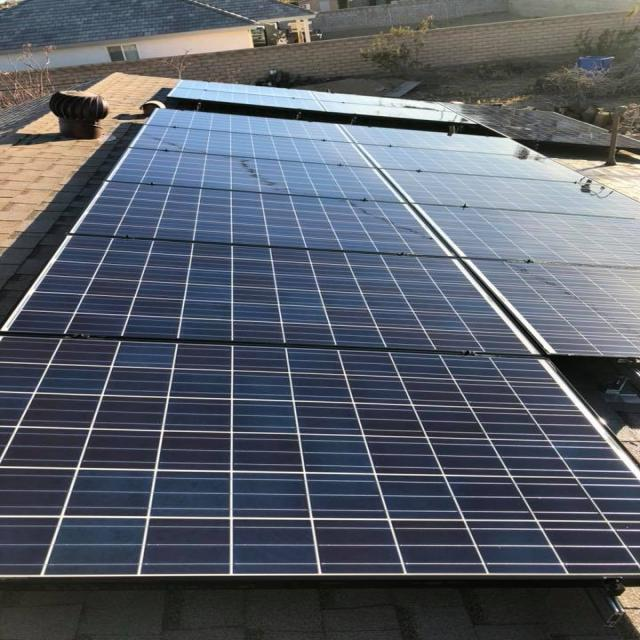clean-solar-panel: (2, 81, 638, 578)
